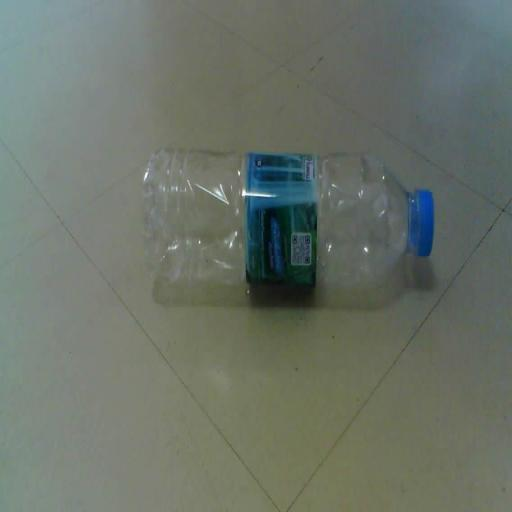bottle: (119, 116, 457, 328)
